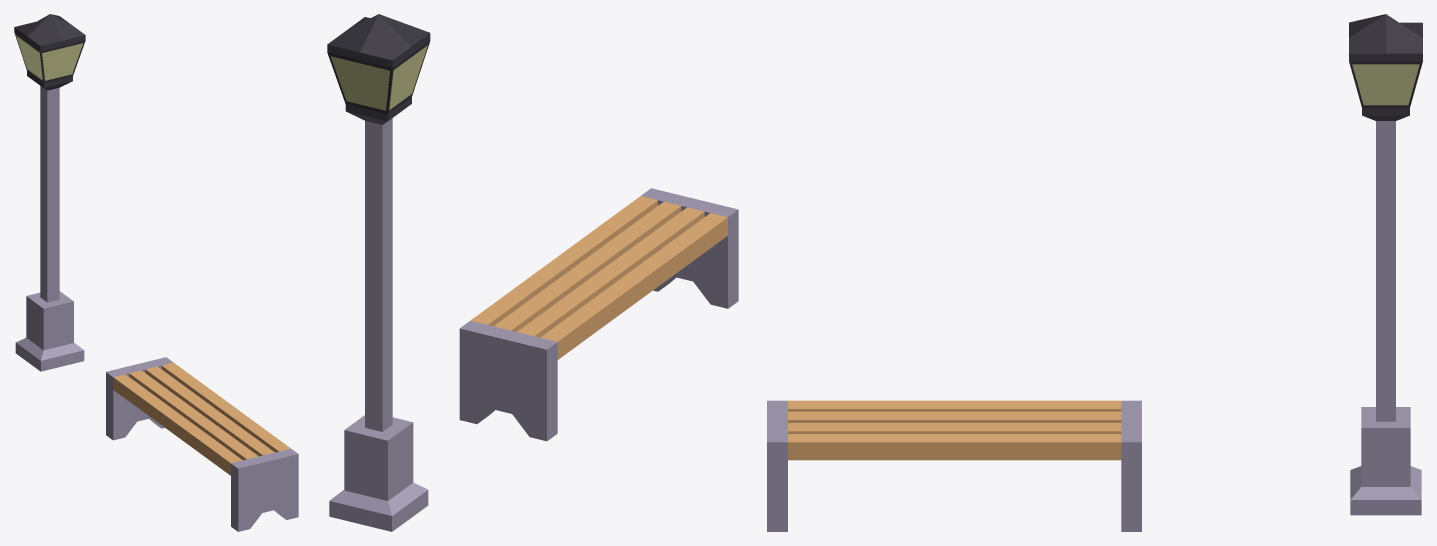
Rendered from bench.fbx.
The picture shows the model from 3 angles, left to right: view 1: azimuth 30°, elevation 25°; view 2: azimuth 150°, elevation 25°; view 3: azimuth 270°, elevation 25°; orthographic projection. The views are drawn at different scales.
Parts seen in each view (by area): view 1: Cube, Cube.002; view 2: Cube, Cube.002; view 3: Cube, Cube.002.
Boxes of the visible parts, x1,y1,x2,y2 form: Cube: (106,357,298,531); Cube.002: (14,14,85,371); Cube: (459,188,738,441); Cube.002: (327,14,430,531); Cube: (767,400,1141,531); Cube.002: (1349,14,1422,515).
Bounding box in the file's own units: 200 × 1109 × 1326.
